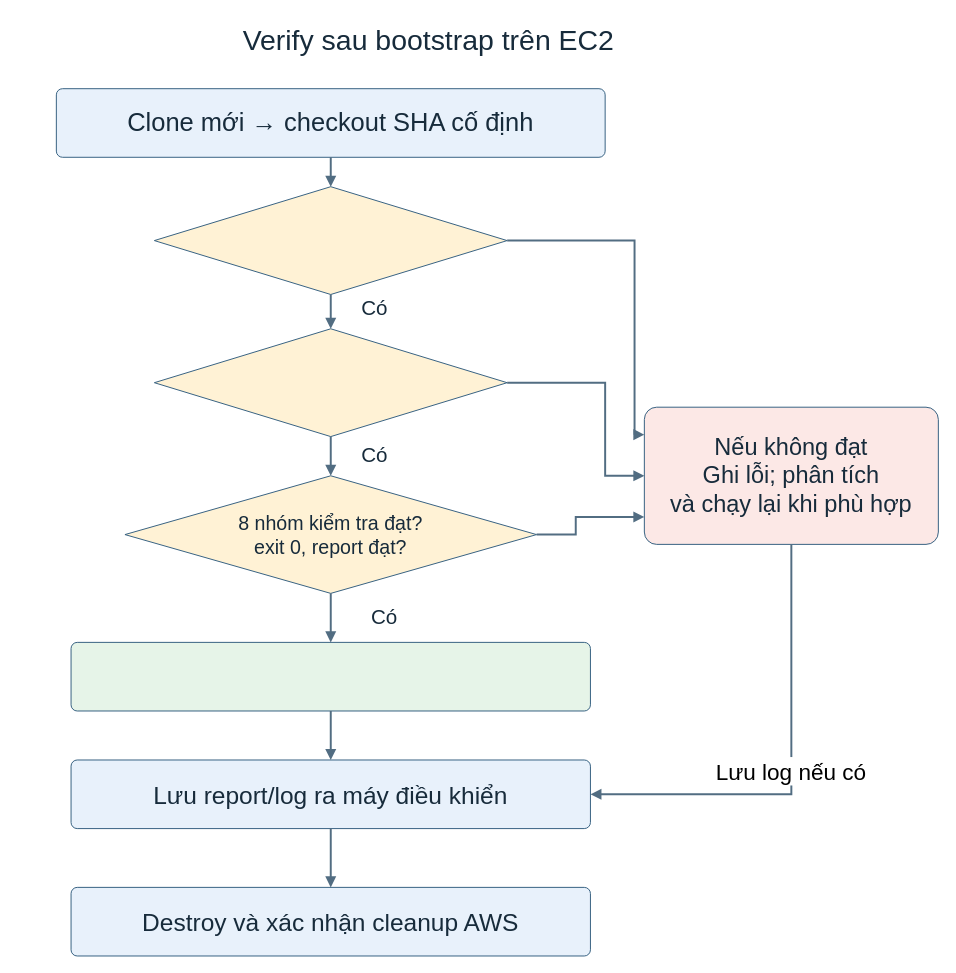
Some shapes in this 956 by 973 pixel diagram are drawn without their labels. Here are the shapes that lost their labels. From the top down, the centre of each, then its label:
At [330,240]: "SHA khớp, checkout sạch?".
At [330,382]: "Bootstrap READY?".
At [330,676]: "Ghi nhận kết quả đạt".
